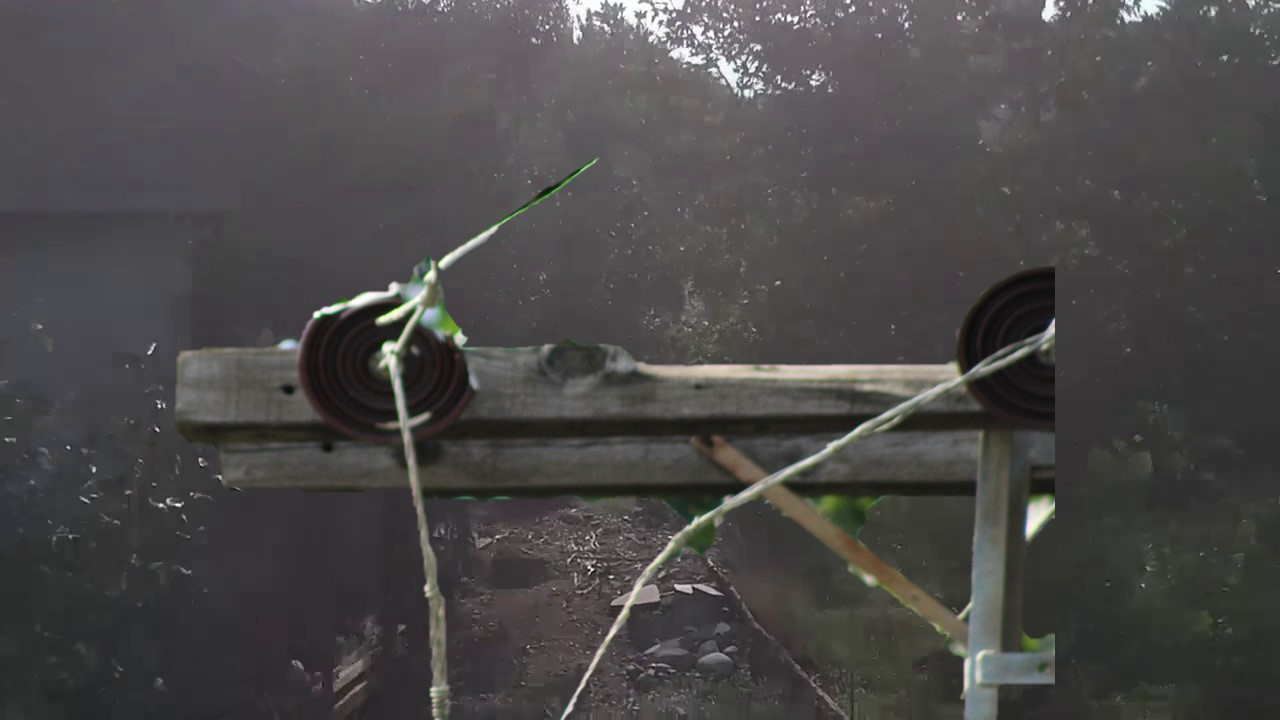defect_disc: (286, 274, 485, 459)
